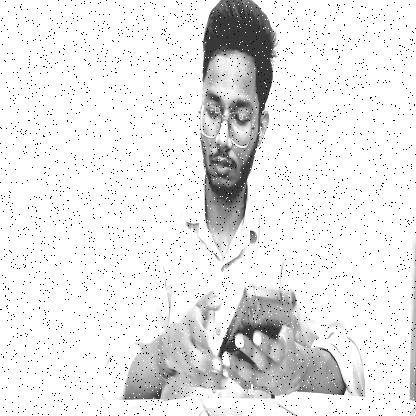Distracted: (194, 4, 278, 205)
